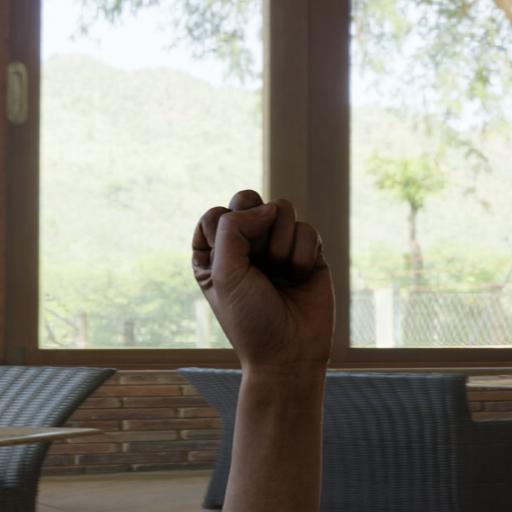S: (157, 169, 347, 512)
